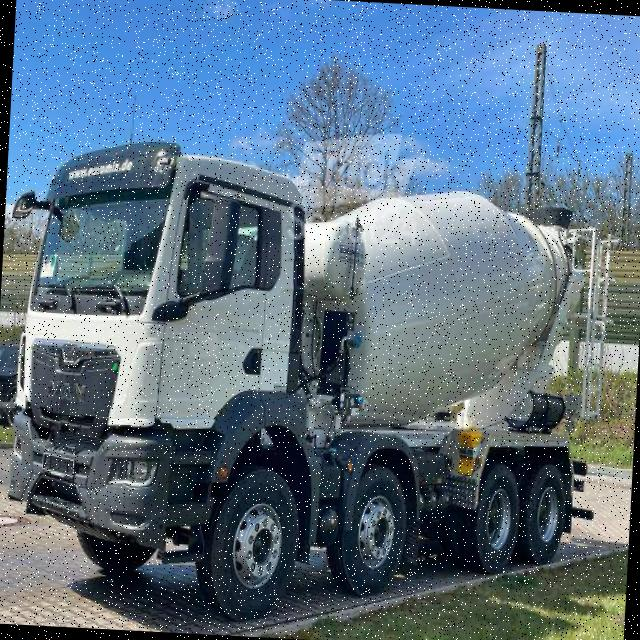Mixer Truck: (1, 136, 623, 640)
